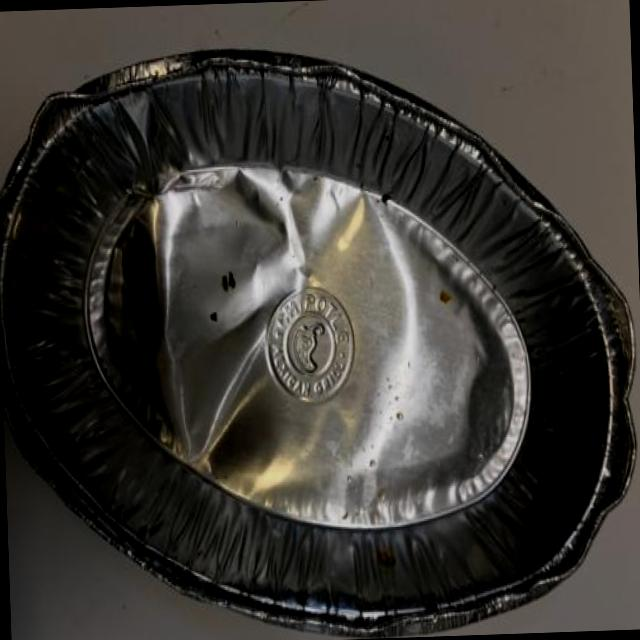kim_loai: (0, 48, 638, 640)
